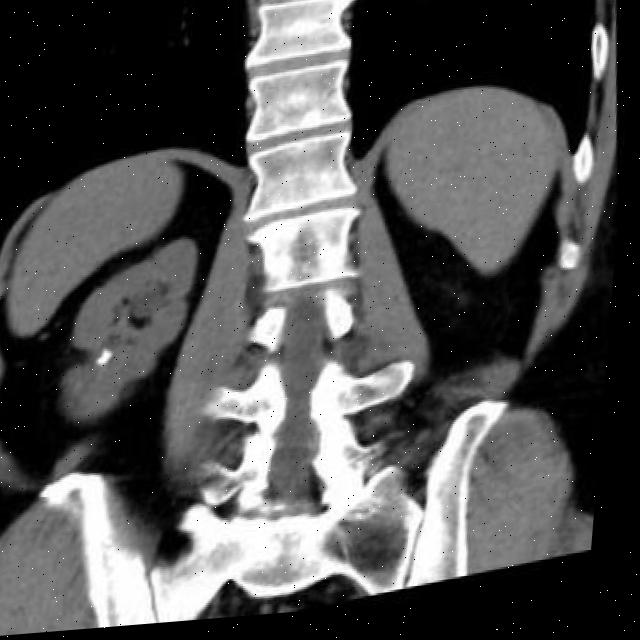Tas_Var: (98, 345, 120, 374)
